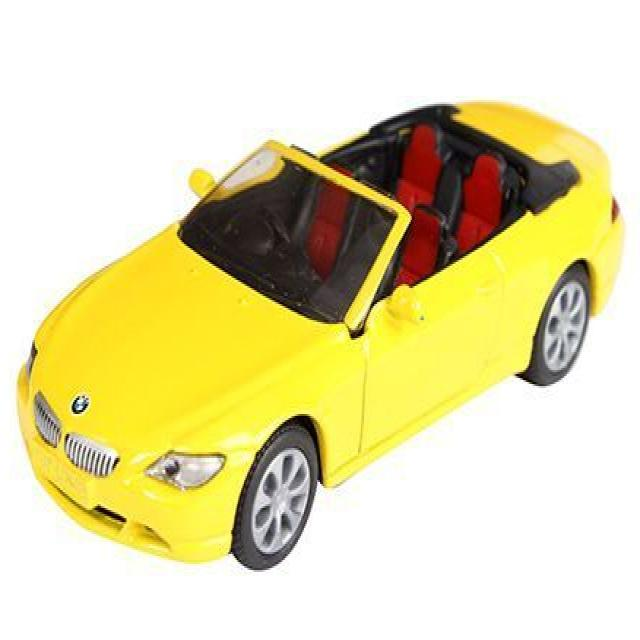Car: (16, 98, 627, 572)
